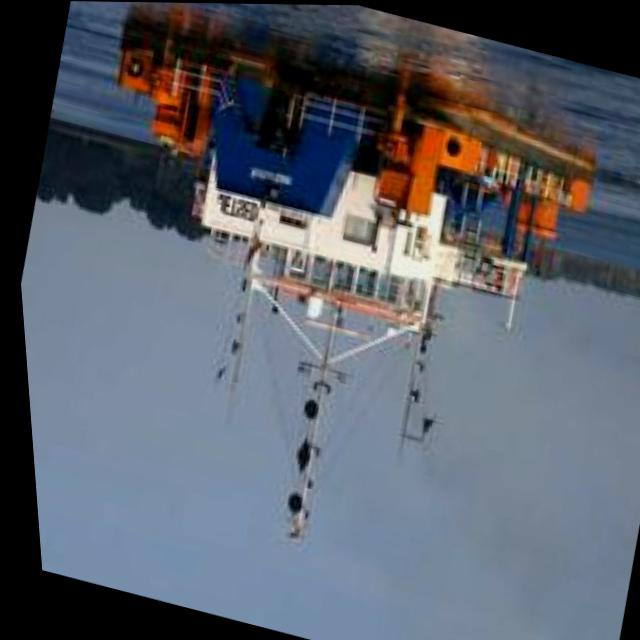ship2: (113, 20, 594, 546)
